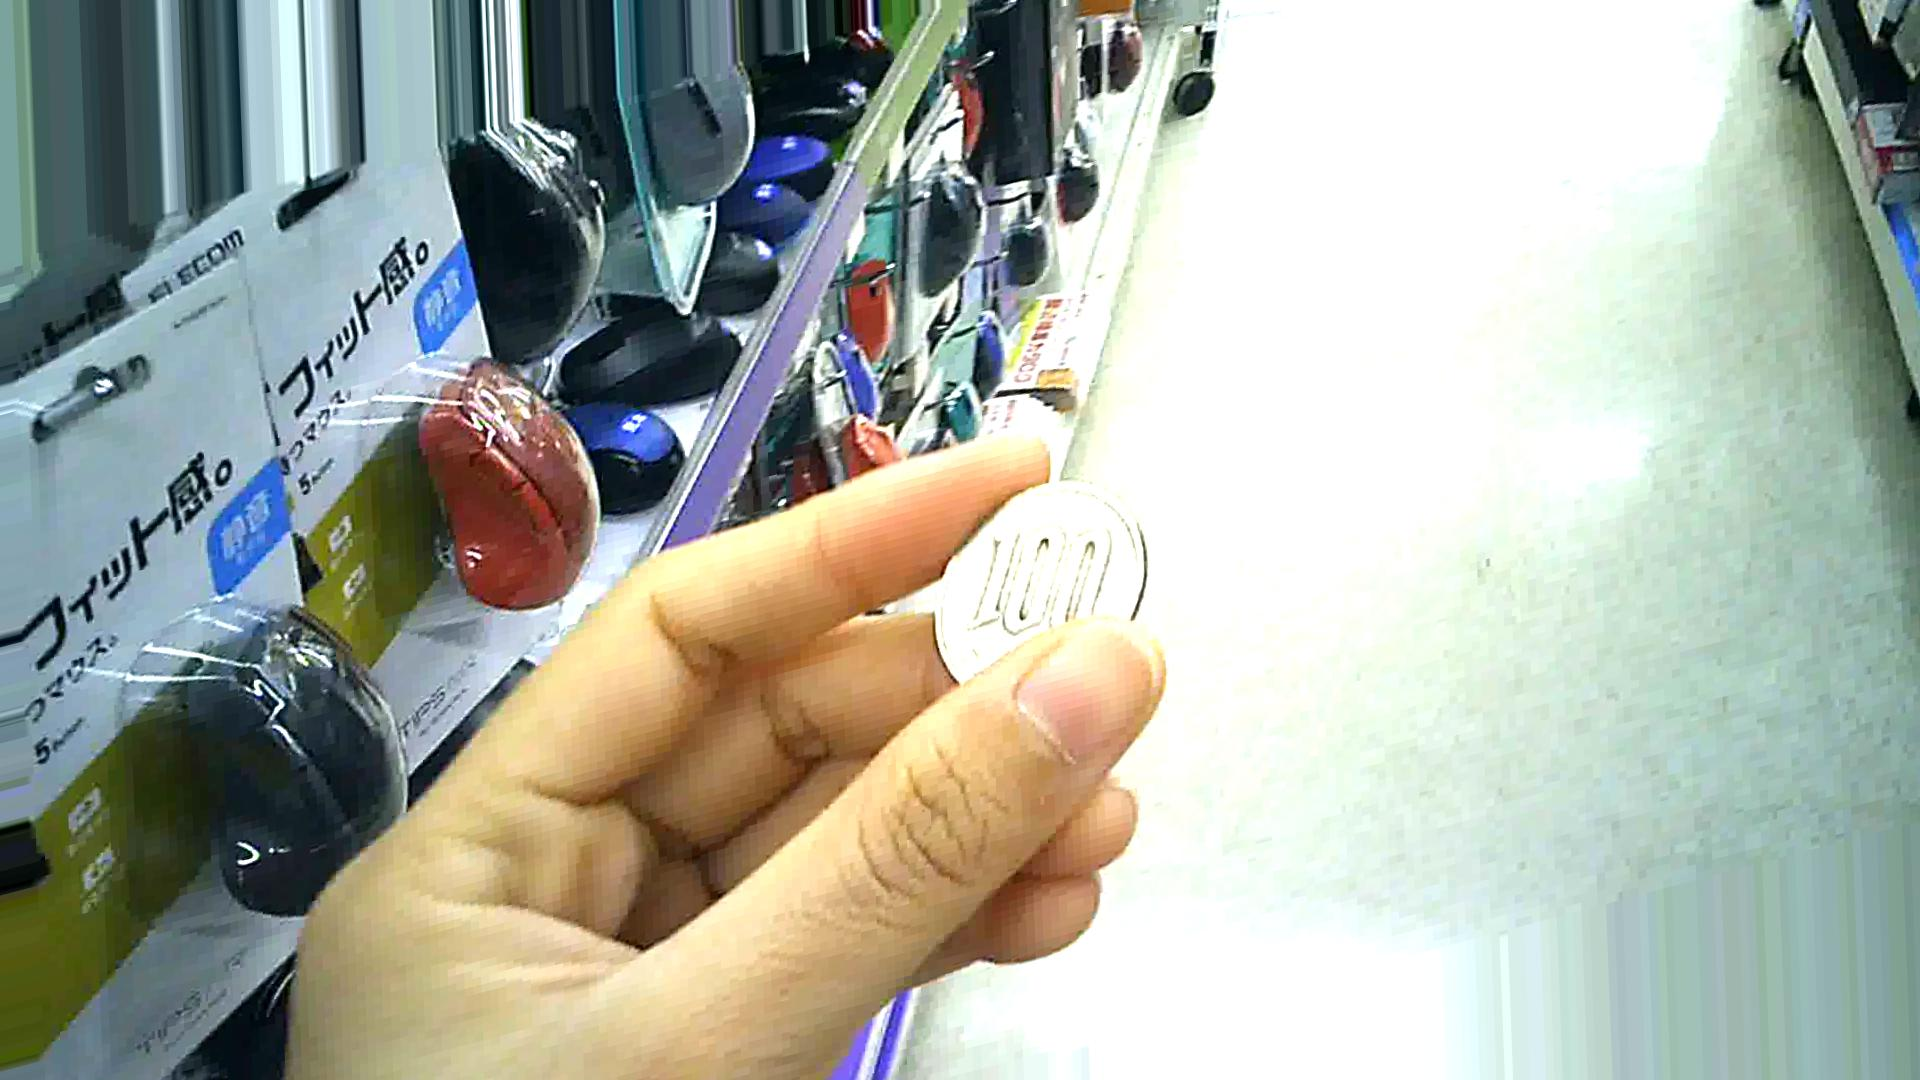100 Yen: (922, 465, 1170, 707)
